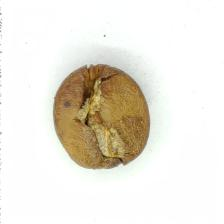NG: (66, 71, 135, 159)
